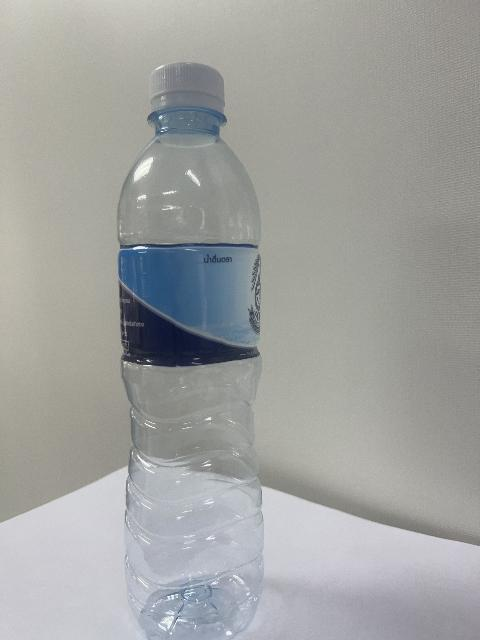bottle: (118, 64, 263, 639)
